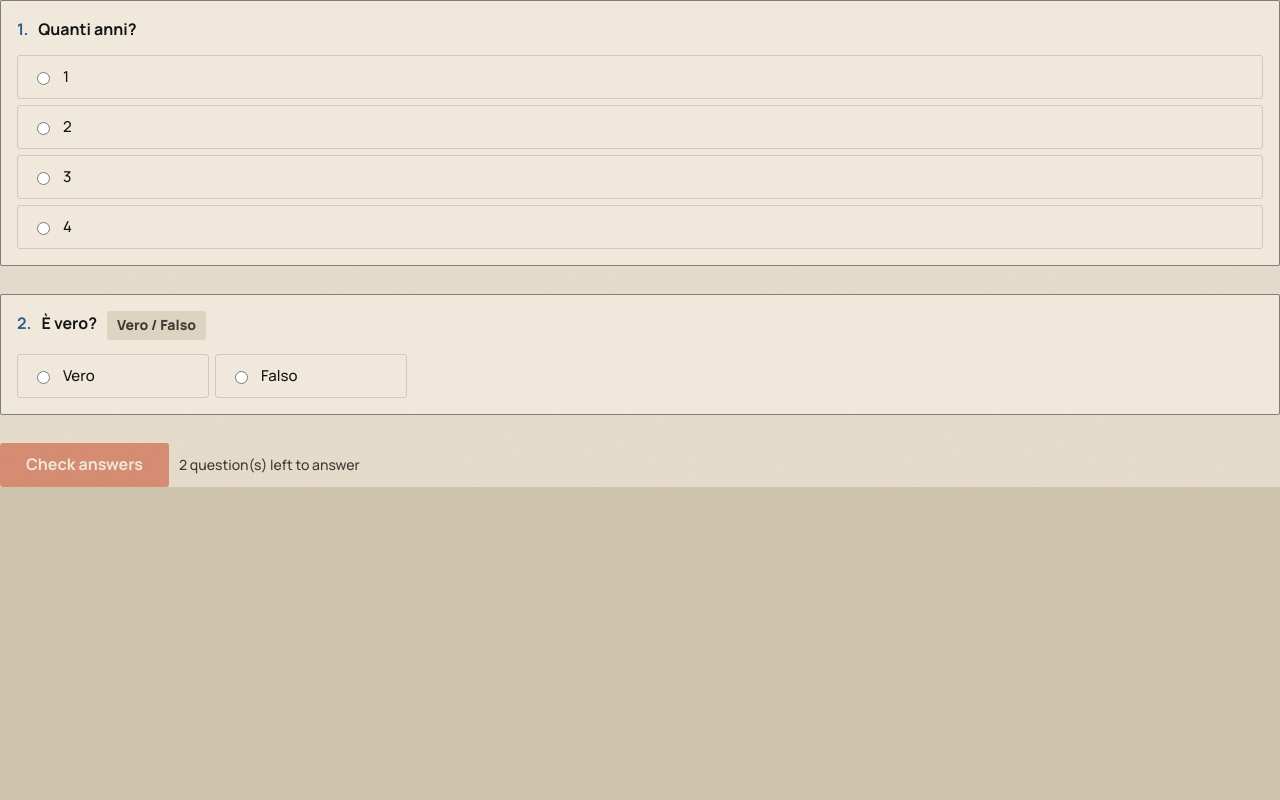
Test: Quiz › opens the result as a popup that closes back to the card
The image size is (1280, 800).
Click the radio button labelled "3".
click(44, 179)  # box top-left (37, 172), bottom-right (50, 186)
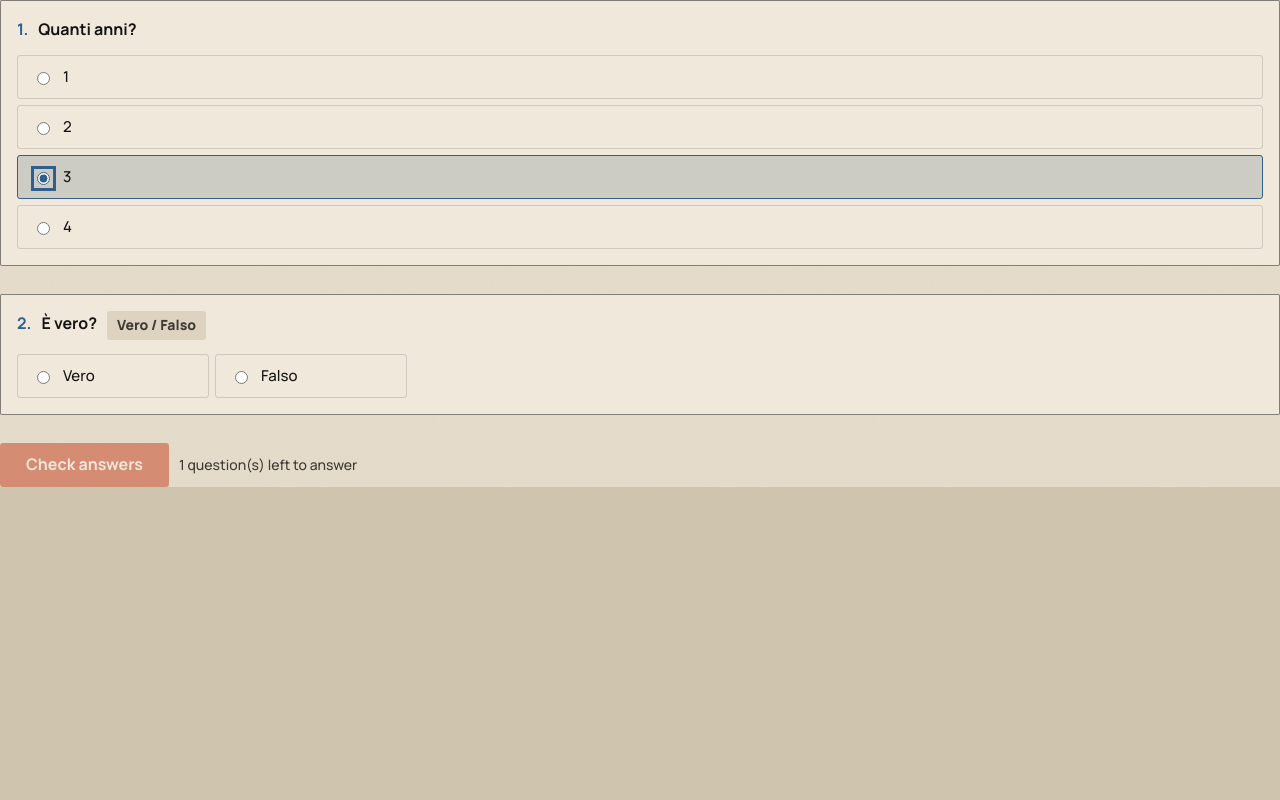
Click the radio button labelled "Falso".
click(242, 378)  # box top-left (235, 371), bottom-right (248, 384)
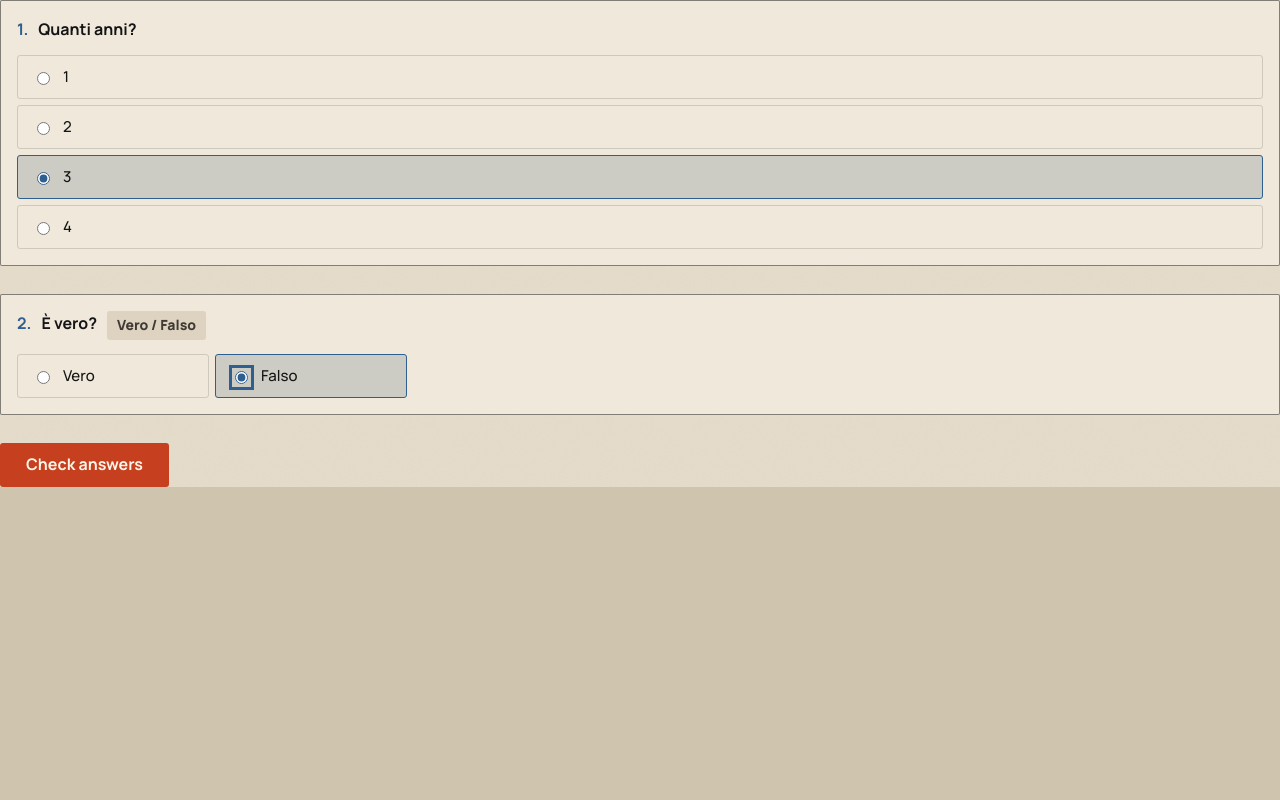
Click the button "Check answers".
click(84, 465)  # box top-left (0, 443), bottom-right (169, 487)
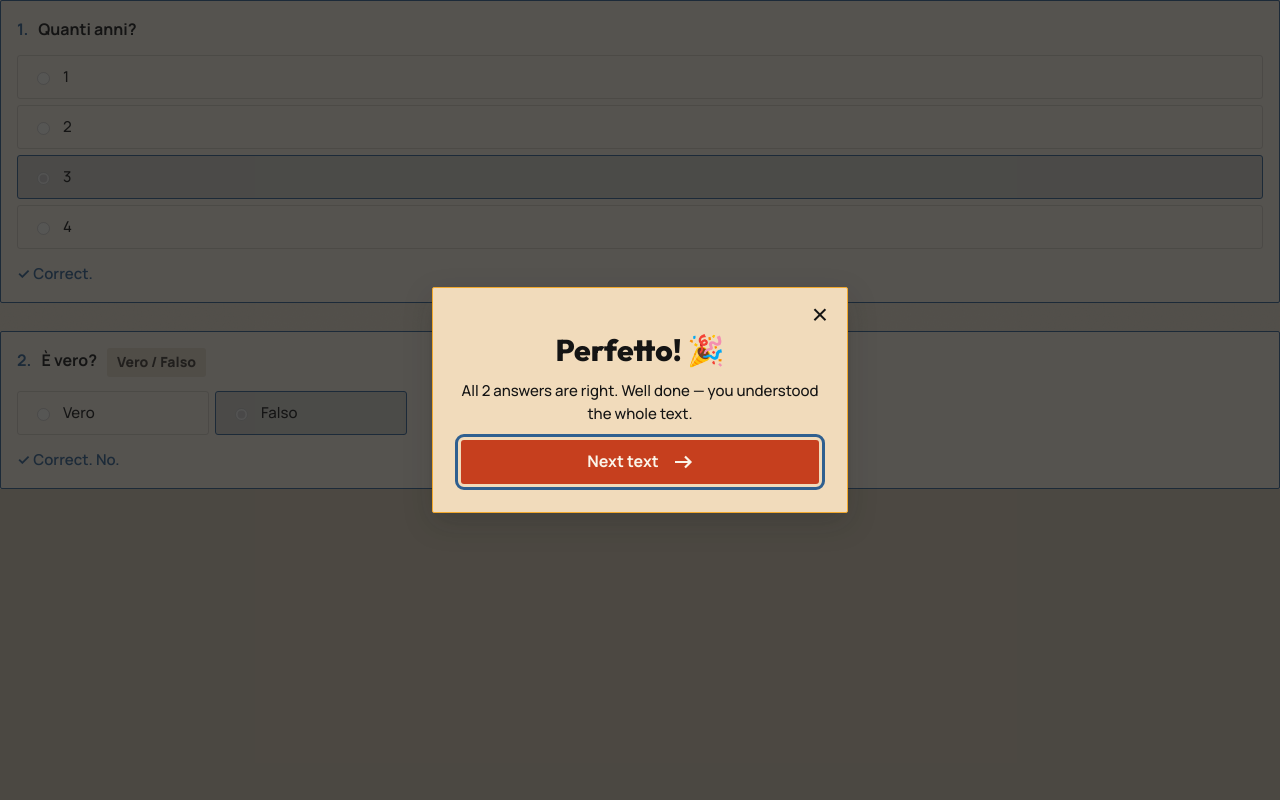
Expected: the dialog named "Your result" is shown, top-left (432, 287), bottom-right (848, 513)
Click the button named "Close".
click(820, 315)  # box top-left (798, 293), bottom-right (842, 337)
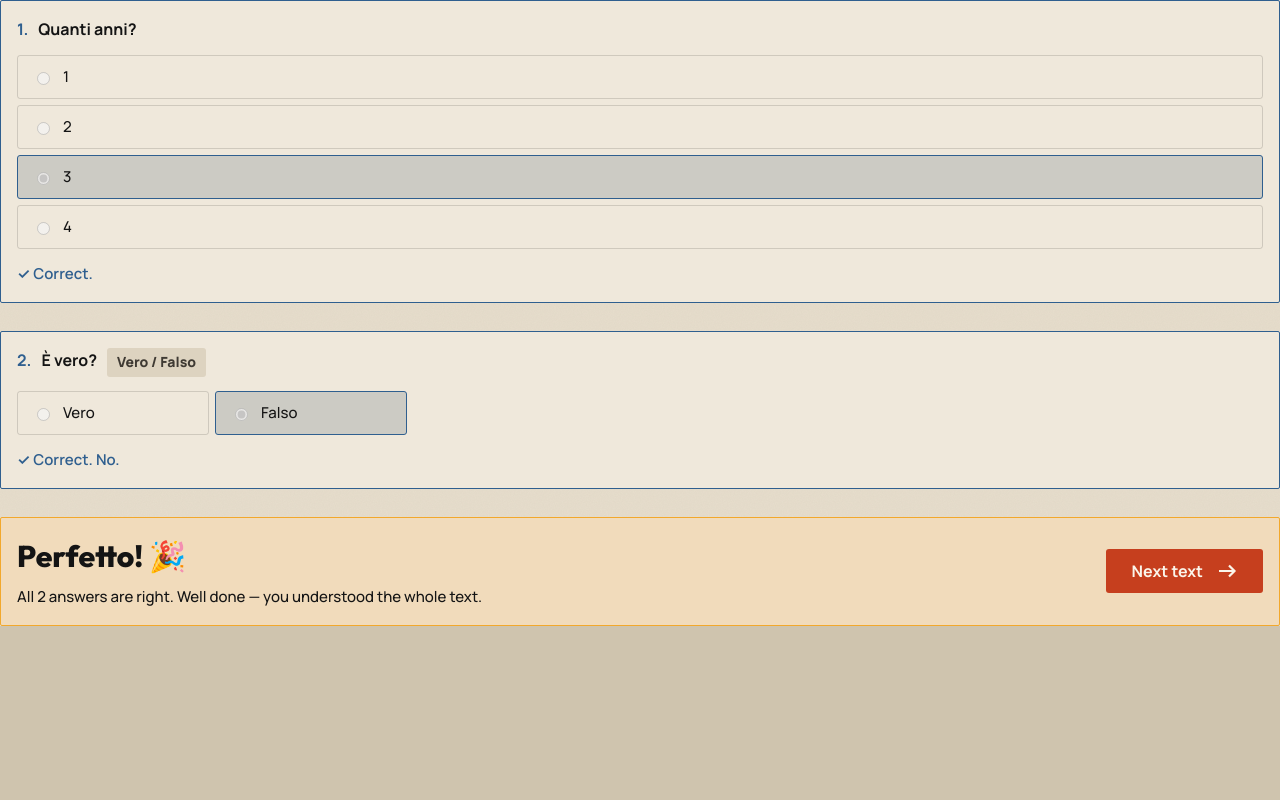
Expected: the text "Perfetto! 🎉" is shown, top-left (17, 537), bottom-right (186, 575)
Expected: the dialog is gone
